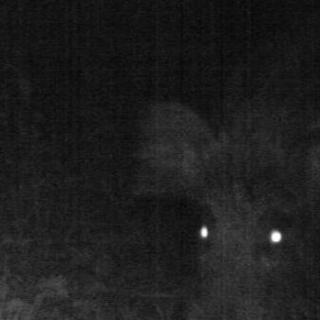Pig: (120, 99, 320, 320)
